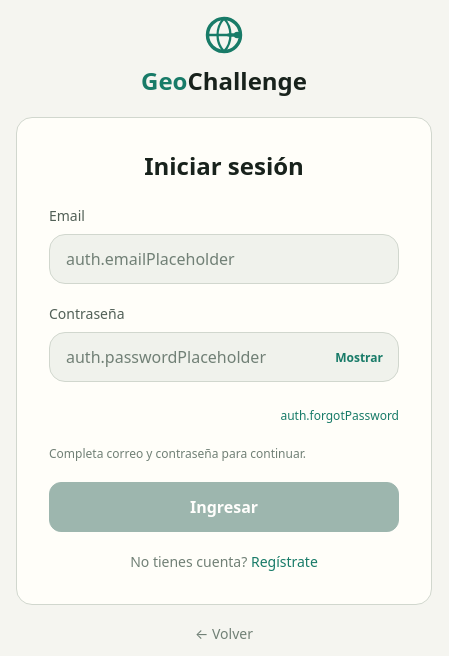
LoginPage › permite mostrar y ocultar contraseña para reducir errores en mobile
Click the button with aria-label "mostrar contraseña": (359, 358) [323,336,395,380]
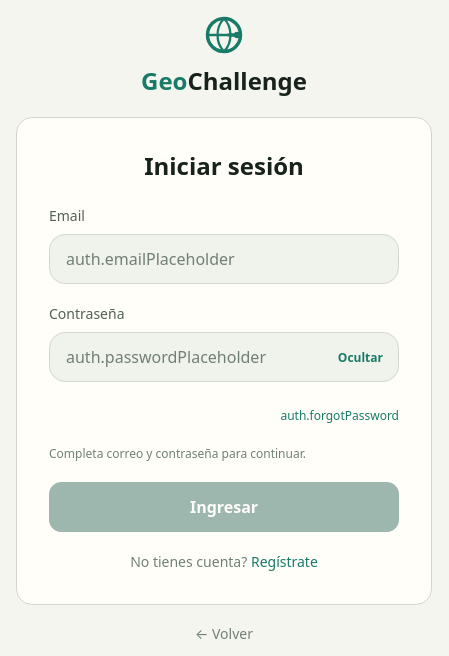
expect the button with aria-label "ocultar contraseña" is shown: met, box [326,336,395,380]
